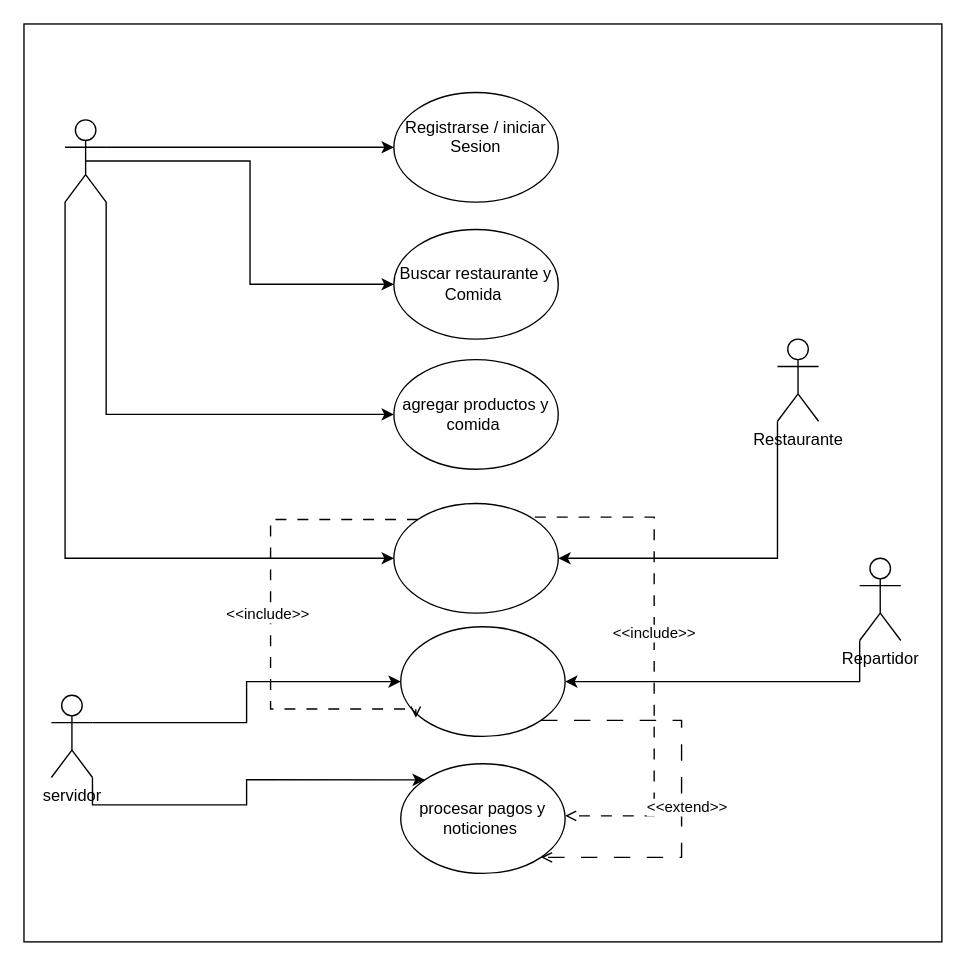
Some shapes in this 966 by 966 pixel diagram are drawn without their labels. Each missing label, with the centre of its shape:
cliente: (85,160)
Realizar pedido y pagar: (475,557)
ver el estado del pedido: (482,680)
